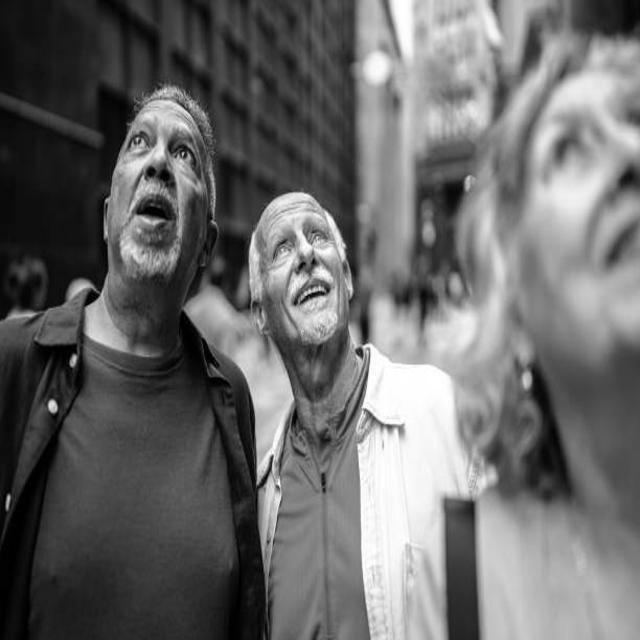Surprised: (111, 108, 207, 288), (258, 205, 348, 349)
